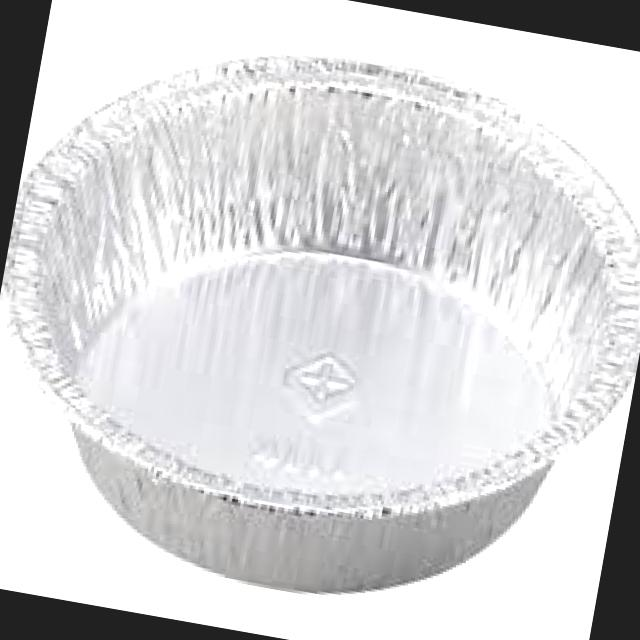kim_loai: (0, 55, 640, 598)
